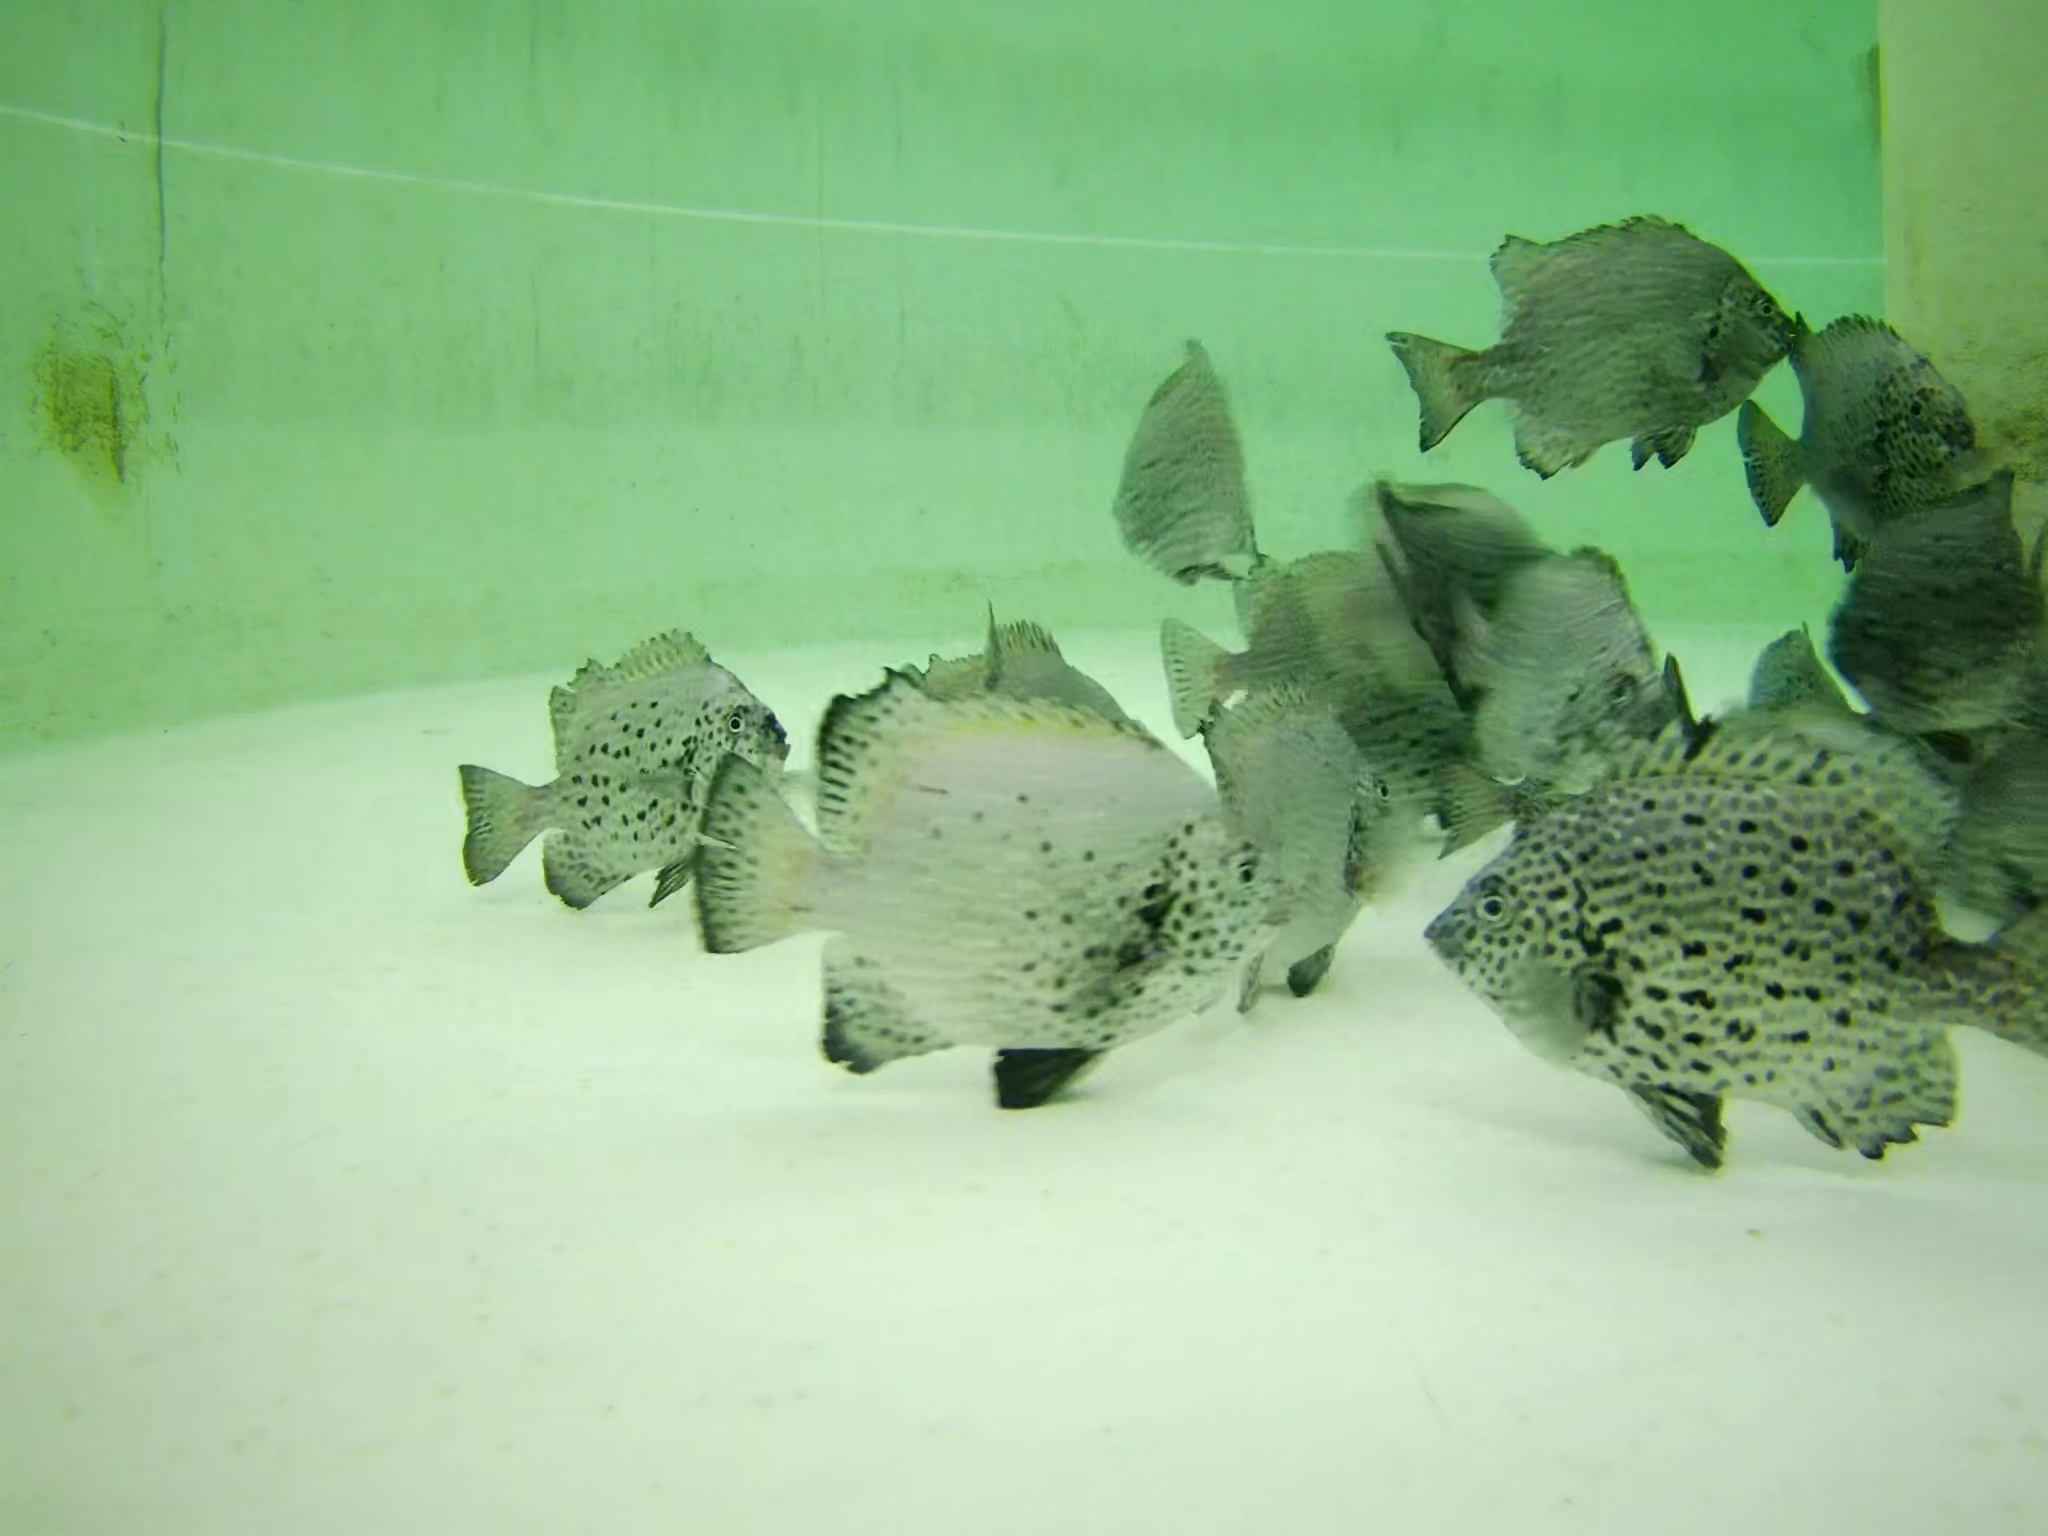fish: (684, 615, 1303, 1115), (1405, 715, 2048, 1175), (426, 615, 793, 916), (1369, 208, 1801, 447), (1343, 460, 1667, 736), (1717, 255, 1990, 537), (1785, 449, 2048, 737), (1150, 547, 1471, 757), (1206, 674, 1401, 994), (1101, 334, 1271, 565), (1742, 634, 1877, 818), (1353, 729, 1555, 844)
